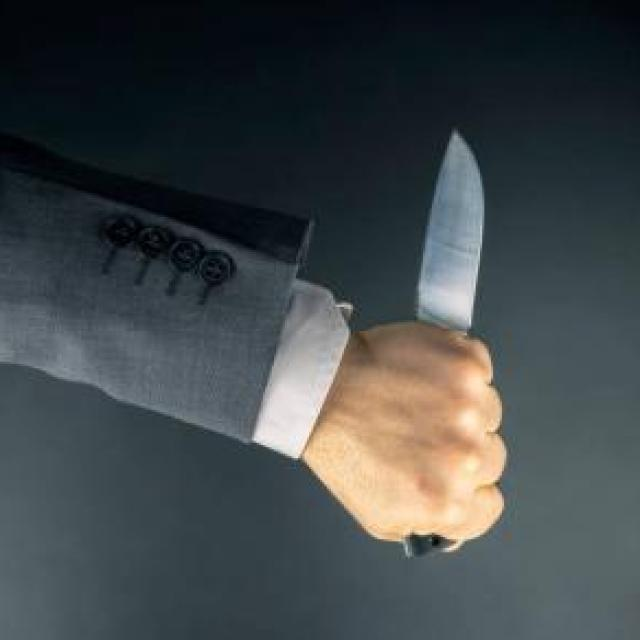knife: (372, 121, 510, 563)
